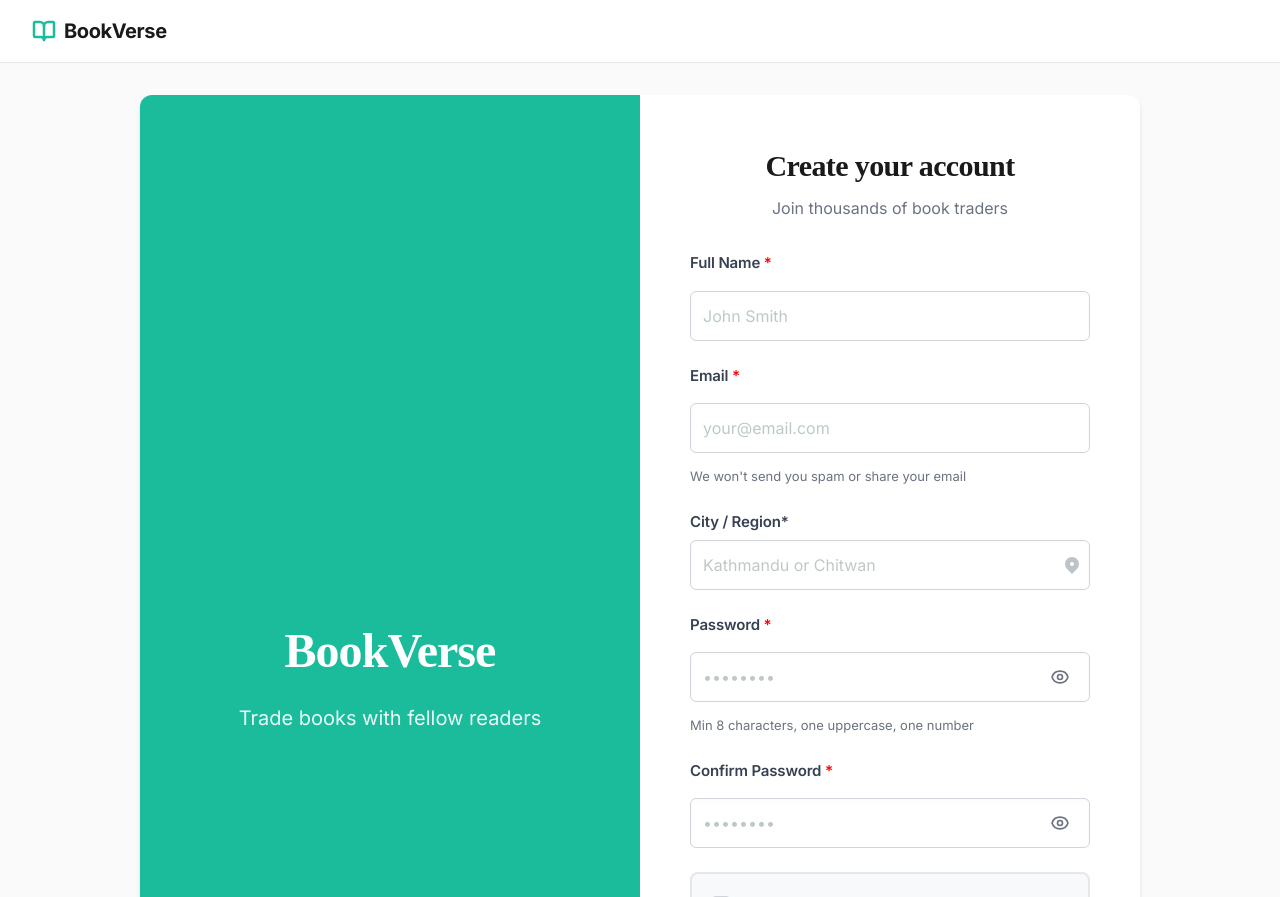
Test: SignUp Component › Validation › displays validation error when passwords do not match
This screenshot has width=1280, height=897.
Type "password123" into the password field labelled "Password *" at (890, 677), box [690,652,1090,702]
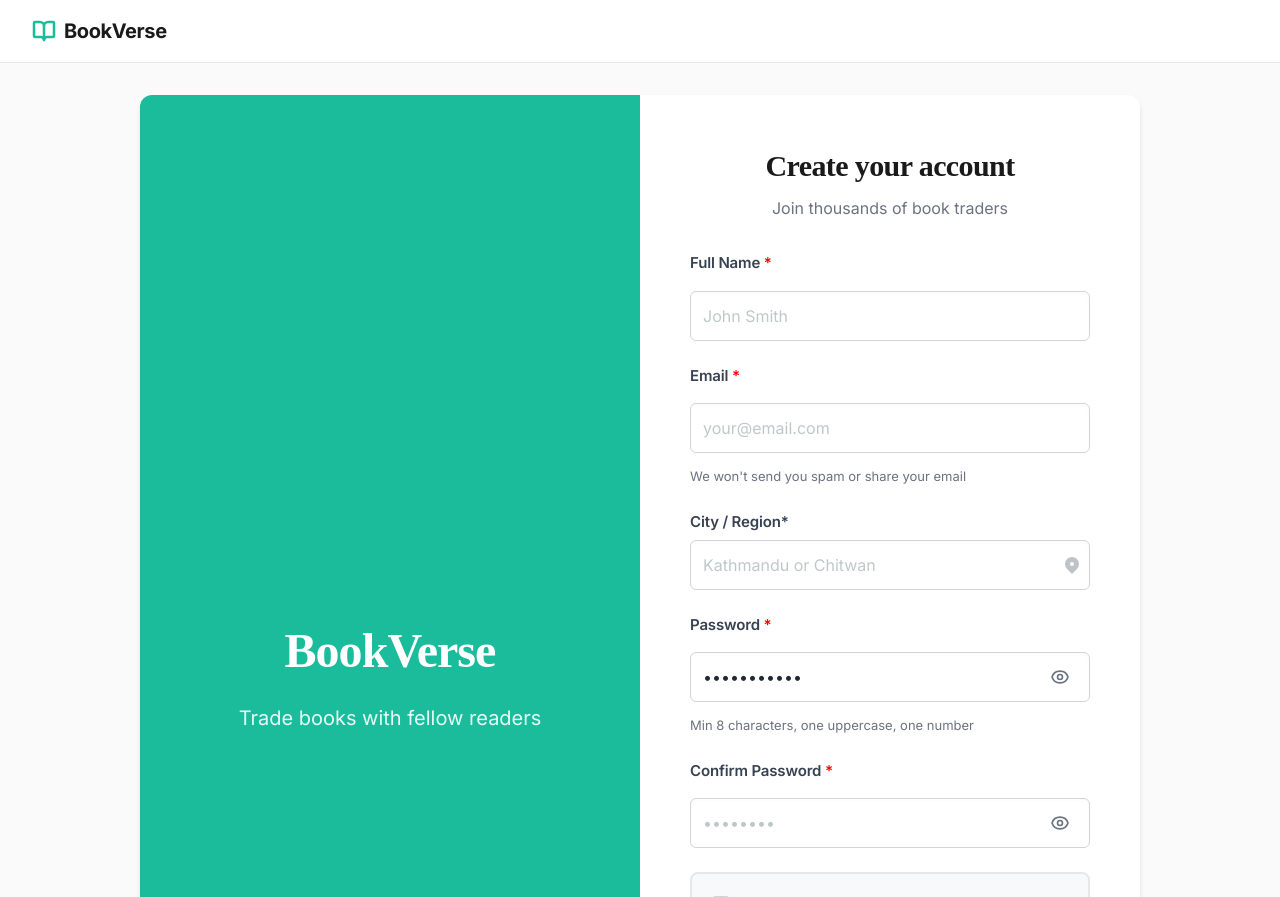
Type "password456" into the password field labelled "Confirm Password *" at (890, 823), box [690,798,1090,848]
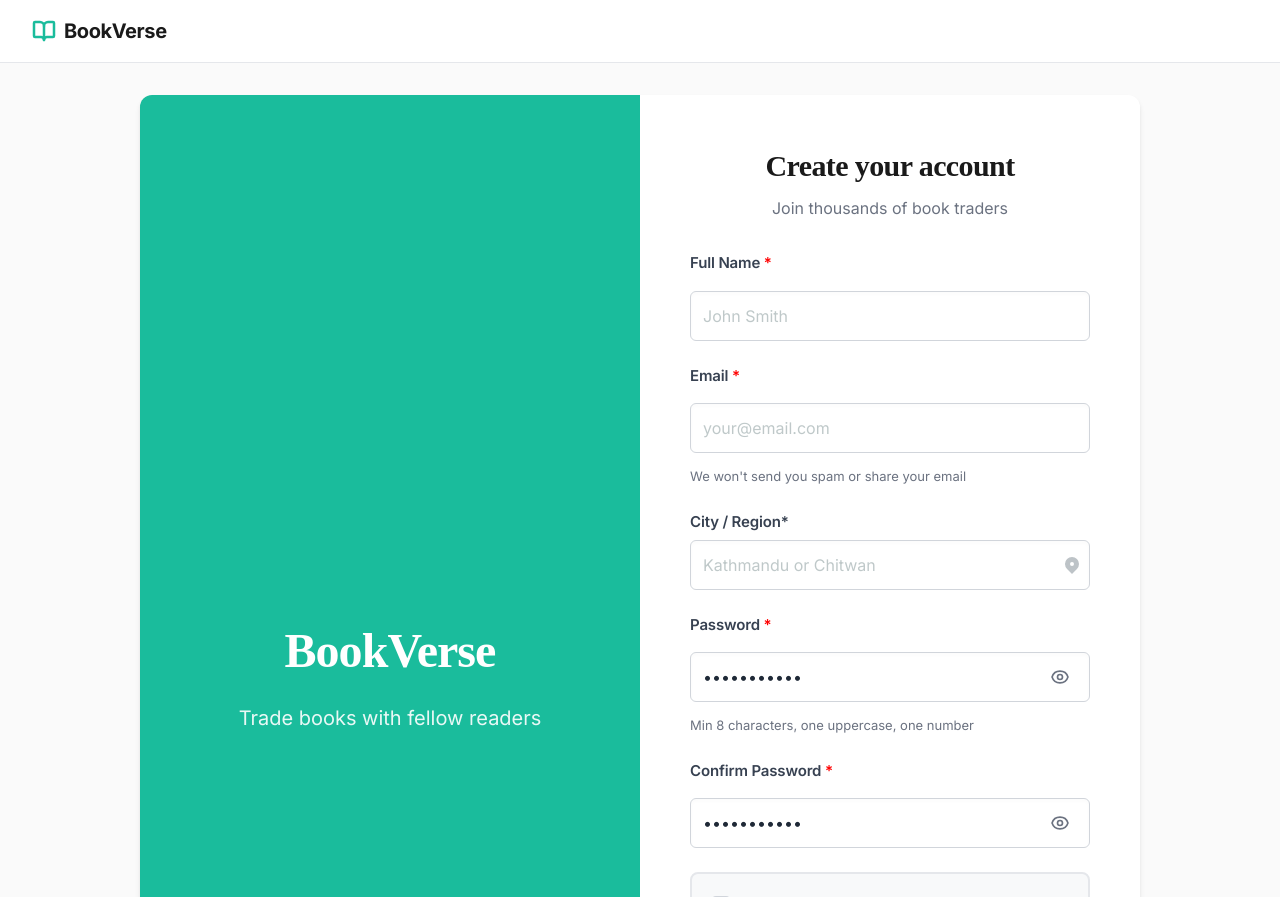
Leave the password field labelled "Confirm Password *", box [690,798,1090,848]
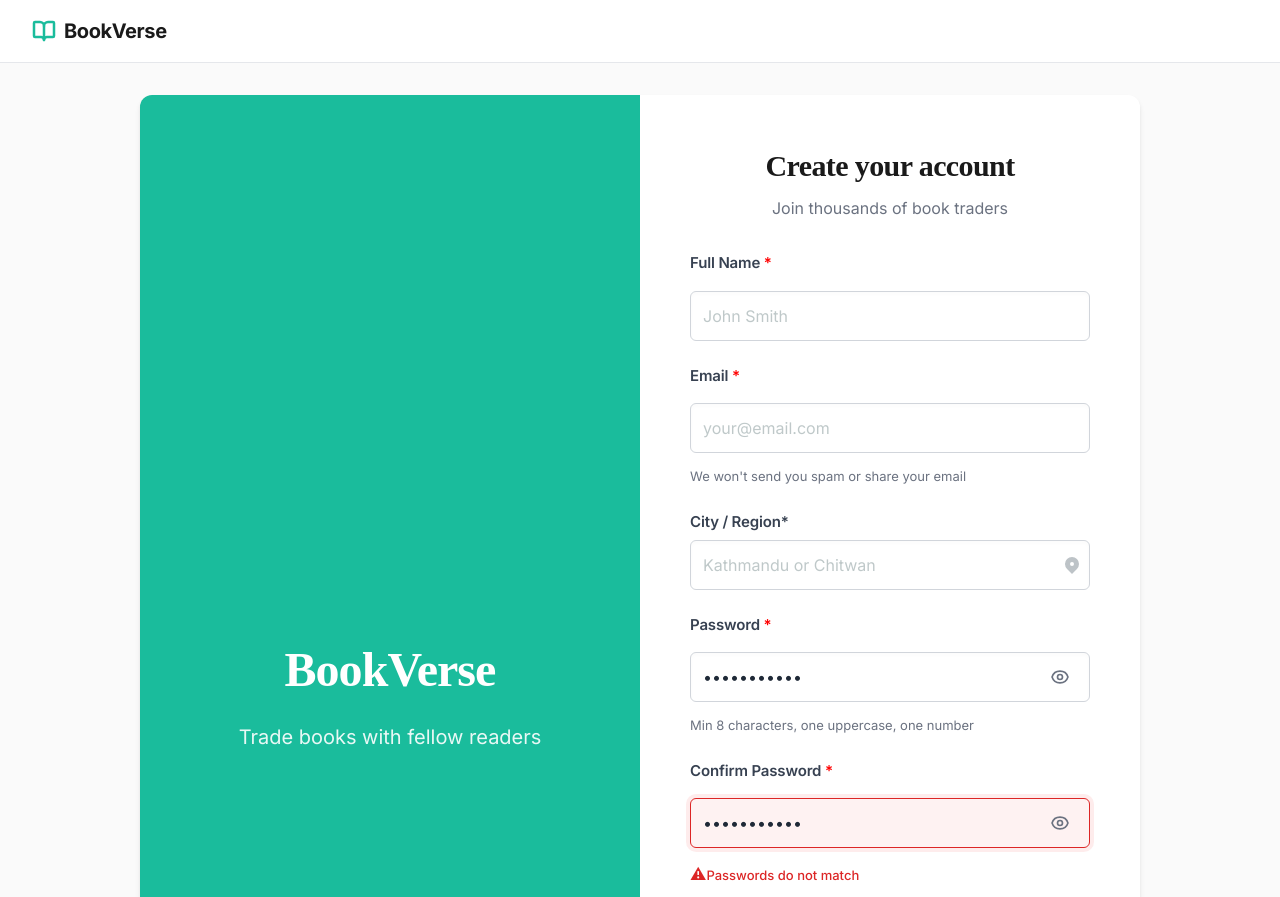
Expected: the text "Passwords do not match" is shown, [706,867,859,883]
